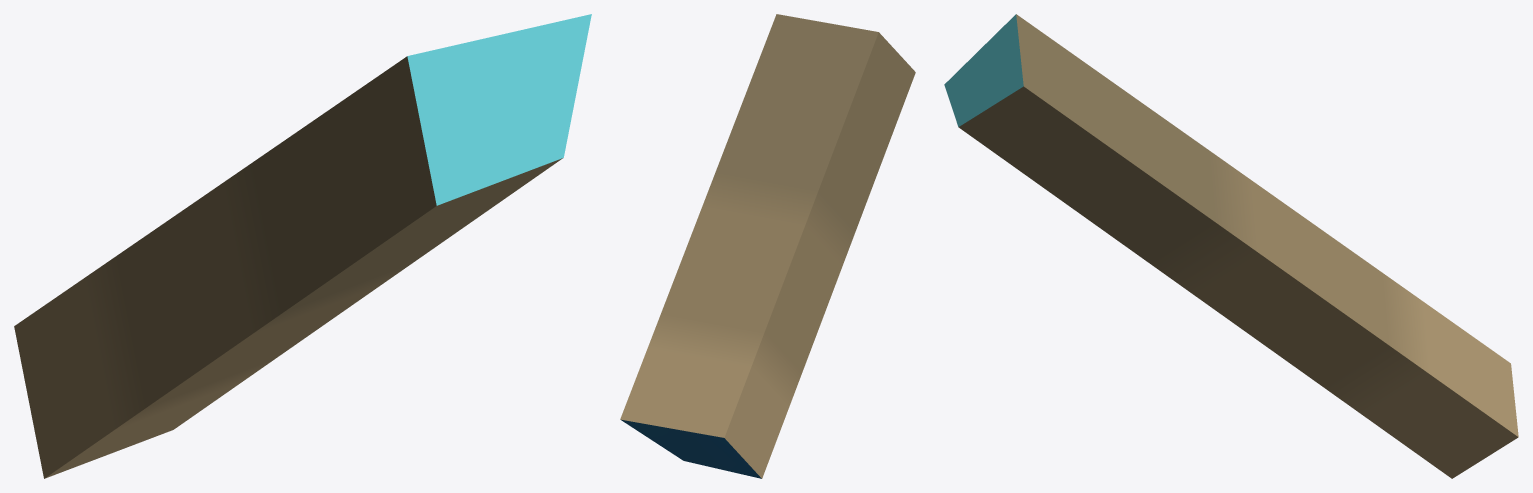
File: 068a_Liechtenstein.glb
3 renders of one model, left to right at view 1: azimuth 30°, elevation 25°; view 2: azimuth 150°, elevation 25°; view 3: azimuth 270°, elevation 25°, orthographic. The views are drawn at different scales.
Visible parts, largest first — view 1: part_0; view 2: part_0; view 3: part_0.
Boxes of the visible parts, left/top/right/bottom form: part_0: left=14, top=14, right=591, bottom=478; part_0: left=620, top=14, right=915, bottom=478; part_0: left=944, top=14, right=1518, bottom=478.
Size of the model in its own units: 0.0675 by 0.1537 by 0.1793.
1 material, 1 textured.
